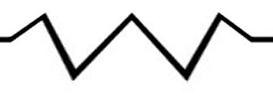resistor: (8, 3, 256, 81)
